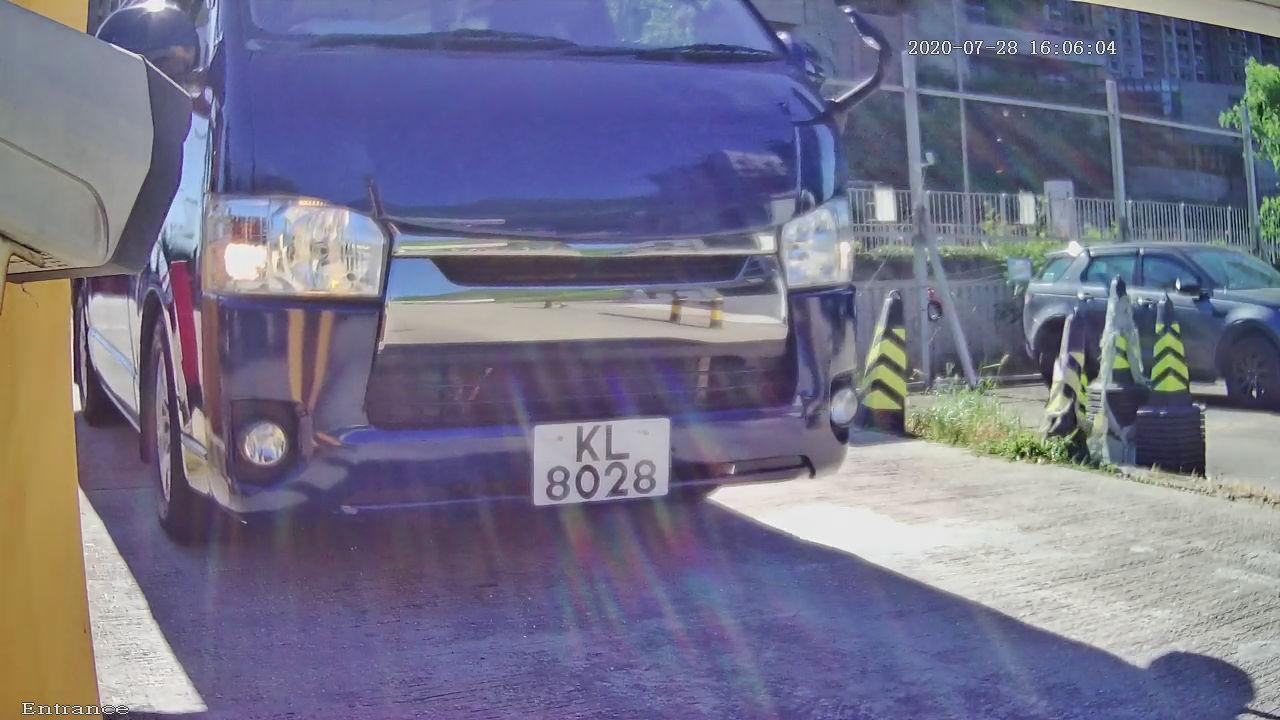privatecar: (90, 1, 892, 580)
